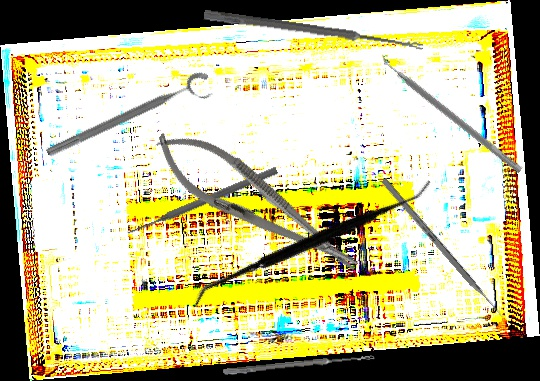Fixation Ring: (43, 68, 217, 171)
Needle Holder: (142, 115, 371, 292)
Pusher: (380, 177, 509, 324), (125, 164, 279, 239)
Spatula Surgical: (191, 108, 434, 380), (376, 50, 528, 174)
Surgical Spoon: (203, 9, 424, 52), (223, 353, 375, 376)
